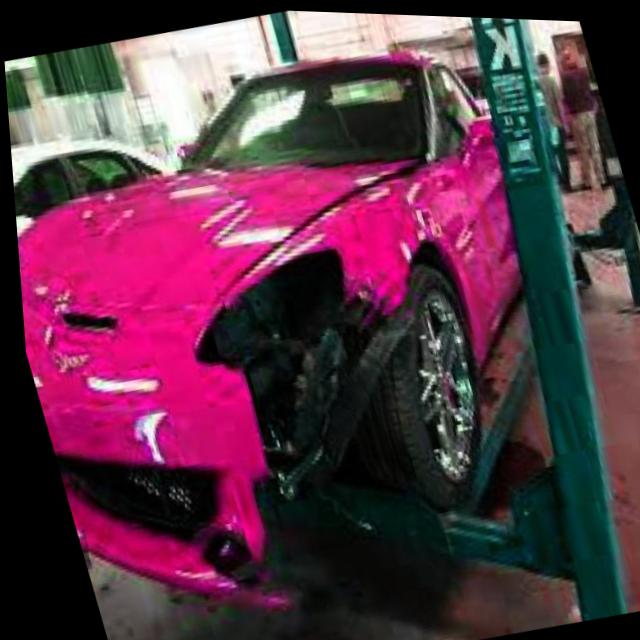Car-Damage: (104, 213, 483, 637)
